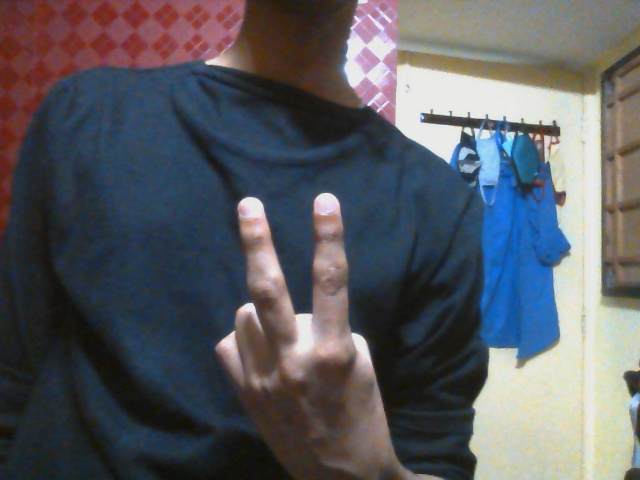V: (213, 192, 387, 443)
